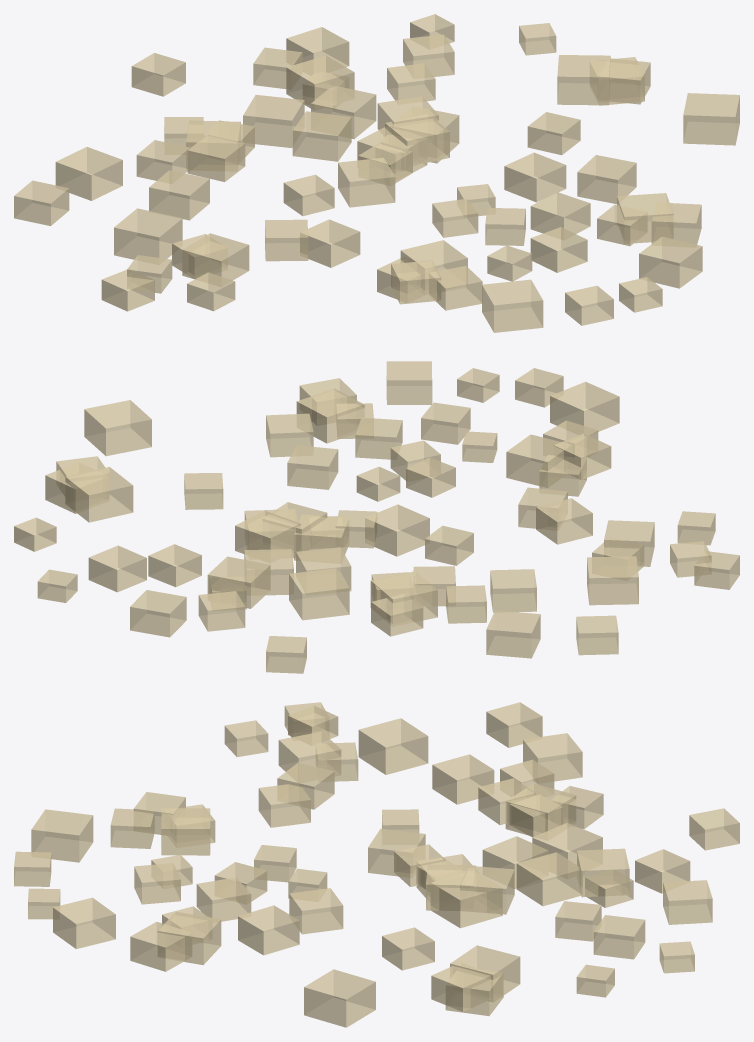
Rendered from onion.glb.
3 renders of one model, top to bottom at view 1: azimuth 30°, elevation 25°; view 2: azimuth 150°, elevation 25°; view 3: azimuth 270°, elevation 25°, orthographic. The views are drawn at different scales.
Visible parts, largest first — view 1: onion; view 2: onion; view 3: onion.
Boxes of the visible parts, box(x1,y1,x2,y2) form: onion: box(14, 14, 739, 332); onion: box(14, 361, 739, 673); onion: box(14, 702, 739, 1027).
Size of the model in its own units: 8.58 by 0.4763 by 8.39.
